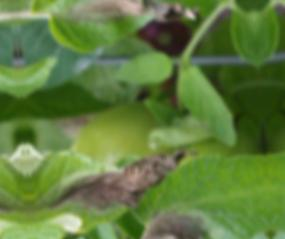Tomato leaf late blight: (25, 133, 201, 239), (118, 130, 273, 239), (26, 0, 203, 71)
